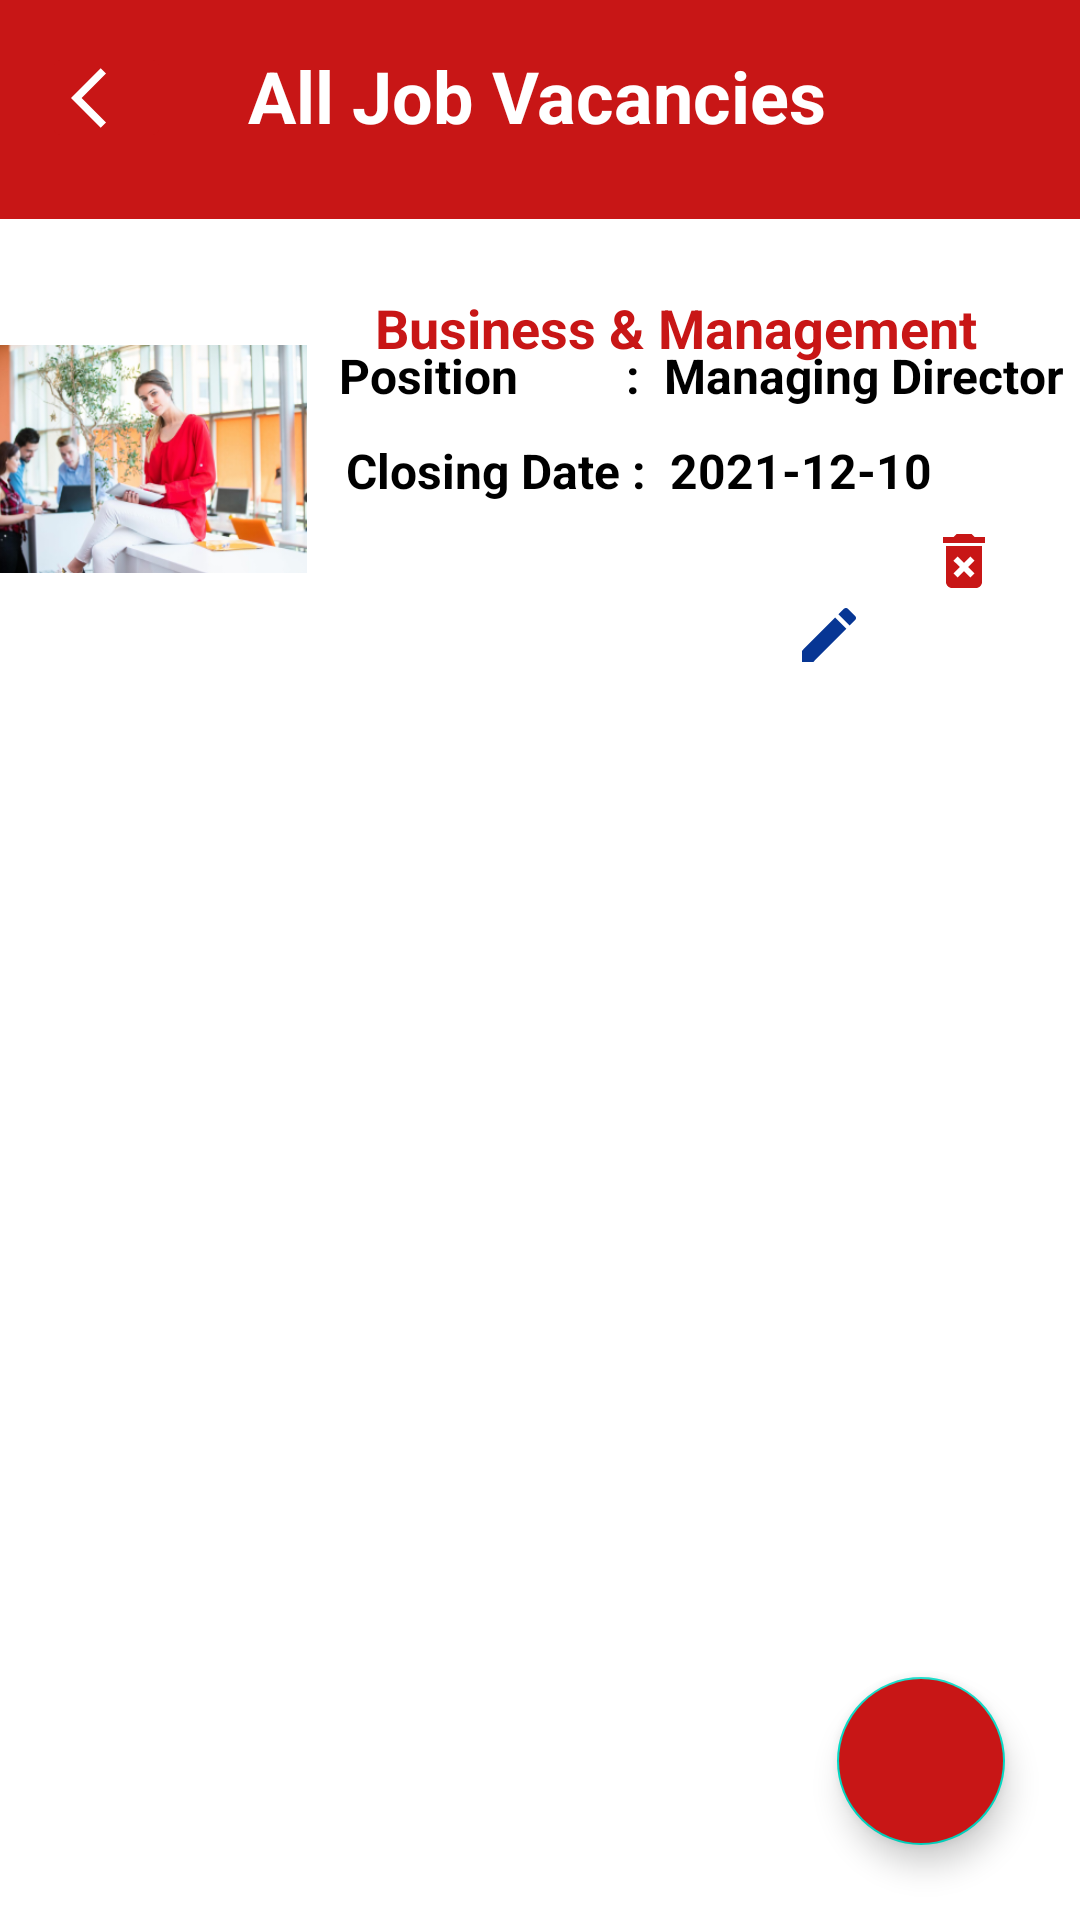

Screen size 1080w x 1920h. Icon name, then its box in pixels as (x1, y1, x2, y2):
arrow back: (71, 68, 106, 128)
delete forever: (943, 534, 985, 588)
edit: (802, 608, 856, 662)
joblistimage: (0, 345, 307, 573)
